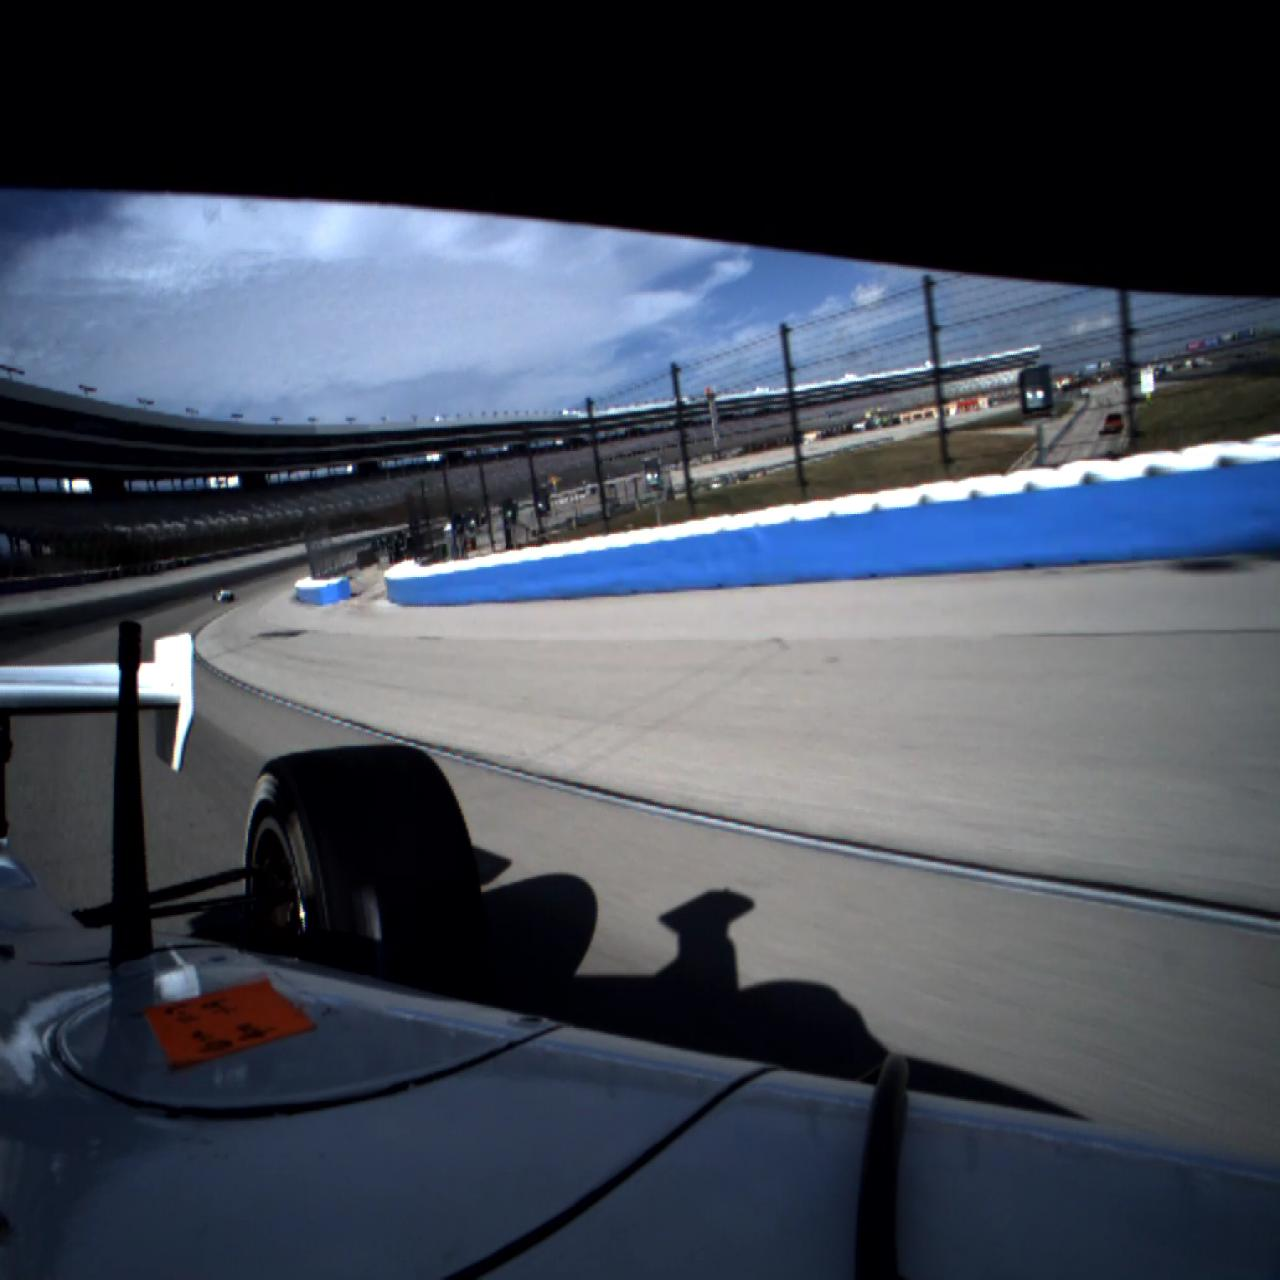AV: (213, 587, 236, 602)
Wheel: (243, 744, 483, 994)
